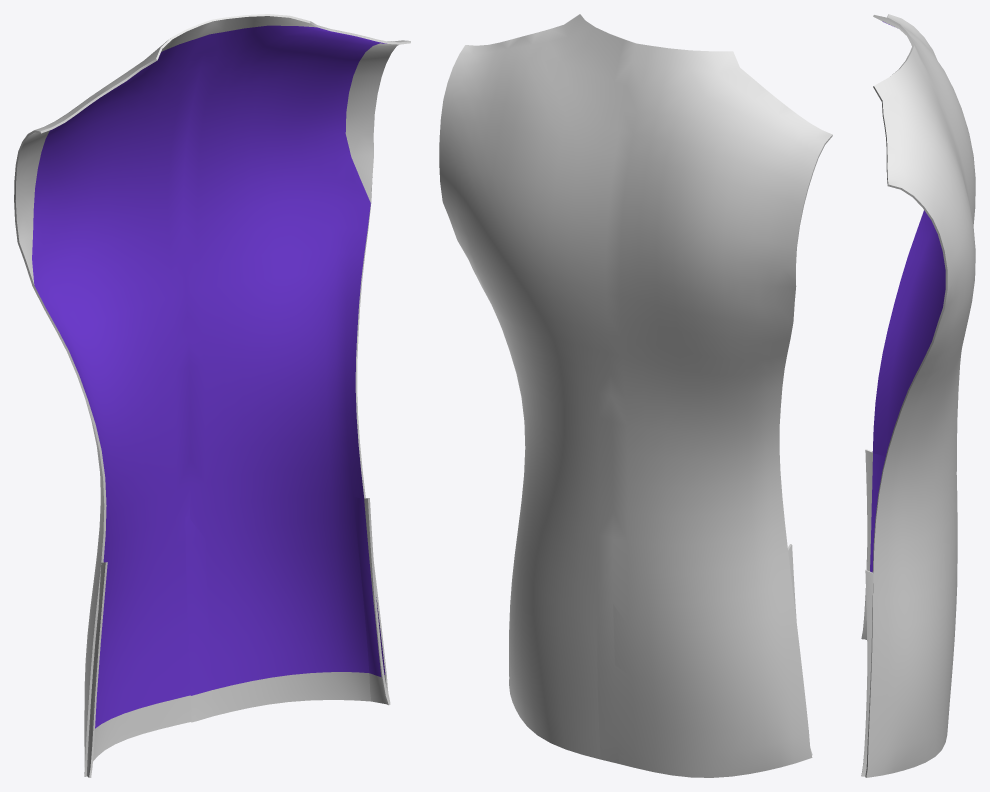
File: Jacket_02_Back Vent.fbx
3 renders of one model, left to right at view 1: azimuth 30°, elevation 25°; view 2: azimuth 150°, elevation 25°; view 3: azimuth 270°, elevation 25°, orthographic. The views are drawn at different scales.
Parts seen in each view (by area): view 1: 1V, 2V, NV; view 2: 1V, 2V; view 3: 1V, 2V, NV.
Boxes of the visible parts, x1,y1,x2,y2 form: 1V: (14, 16, 409, 775); 2V: (25, 158, 390, 777); NV: (25, 14, 410, 776); 1V: (439, 14, 832, 777); 2V: (597, 540, 812, 763); 1V: (865, 14, 975, 777); 2V: (861, 435, 957, 776); NV: (872, 46, 947, 624).
Bounding box in the file's own units: 37.2 × 68.47 × 10.54.
